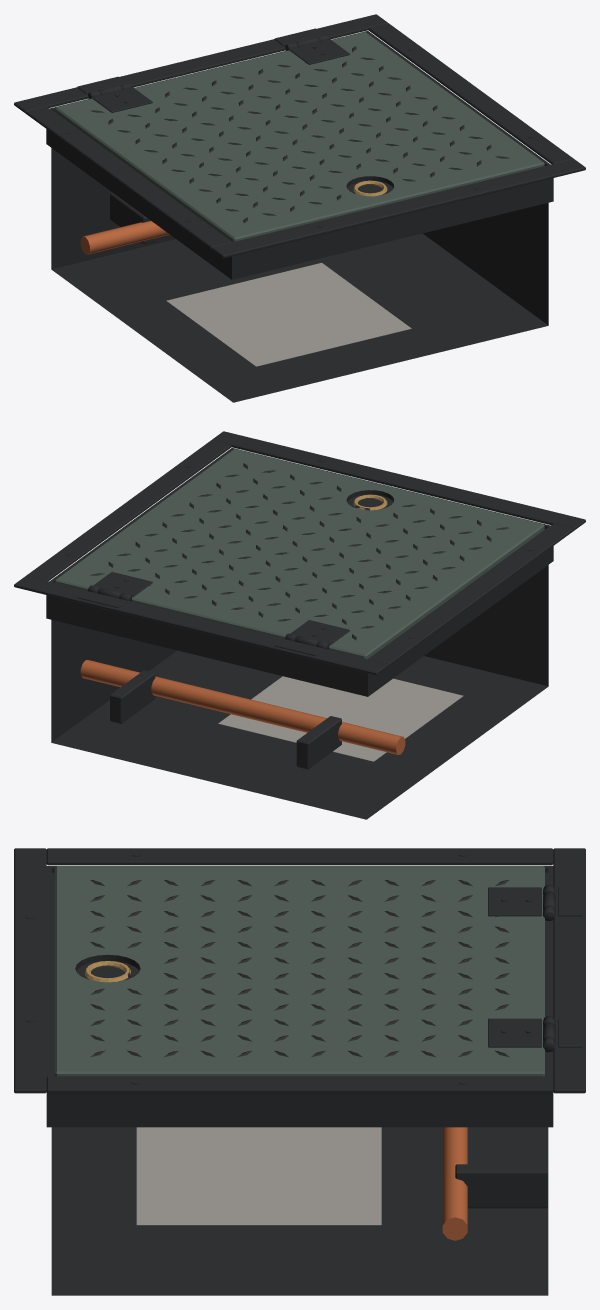
The model's file is floor_hatch.glb.
3 renders of one model, top to bottom at view 1: azimuth 30°, elevation 25°; view 2: azimuth 150°, elevation 25°; view 3: azimuth 270°, elevation 25°, orthographic. The views are drawn at different scales.
Parts seen in each view (by area): view 1: hatch_liner, IA_hatch, hatch_frame; view 2: hatch_liner, IA_hatch, hatch_frame; view 3: IA_hatch, hatch_liner, hatch_frame.
Part boxes in pixels (x1=…): hatch_liner: x1=51, y1=148, x2=548, y2=402; IA_hatch: x1=55, y1=32, x2=544, y2=242; hatch_frame: x1=14, y1=14, x2=585, y2=279; hatch_liner: x1=51, y1=565, x2=548, y2=819; IA_hatch: x1=55, y1=449, x2=544, y2=659; hatch_frame: x1=14, y1=431, x2=585, y2=696; IA_hatch: x1=55, y1=866, x2=555, y2=1076; hatch_liner: x1=51, y1=1127, x2=548, y2=1295; hatch_frame: x1=14, y1=848, x2=585, y2=1127.
Bounding box in the file's own units: 0.7 × 0.3071 × 0.7.
